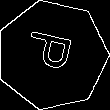P_E: (23, 31, 81, 79)
